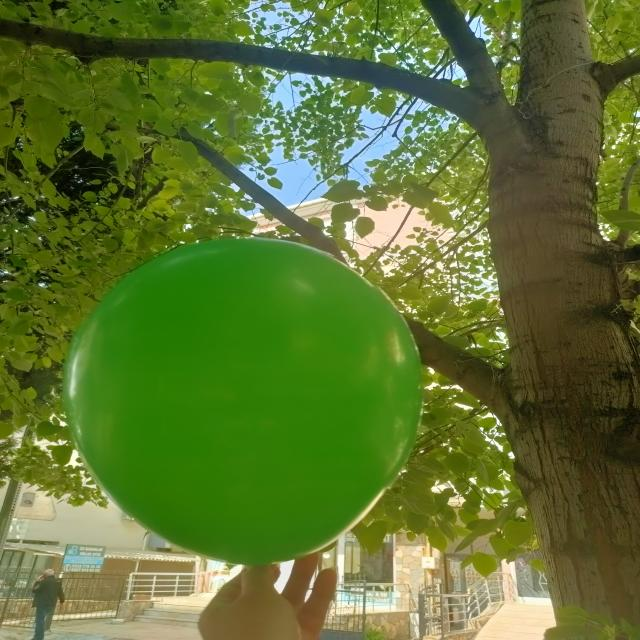green: (63, 241, 424, 564)
